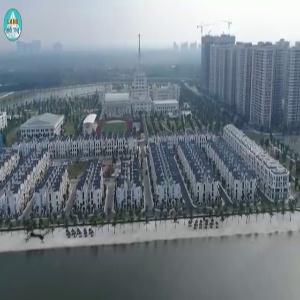drone: (9, 205, 69, 265)
